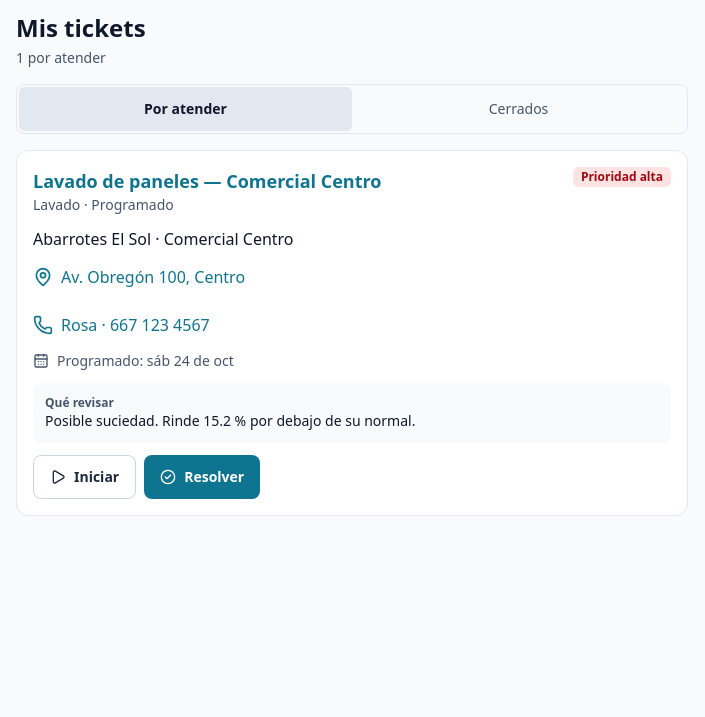
Test: vista del técnico (celular) › iniciar y resolver con notas y "Se realizó limpieza"
Click the button "Iniciar" at (85,477), box [33,455,136,499]
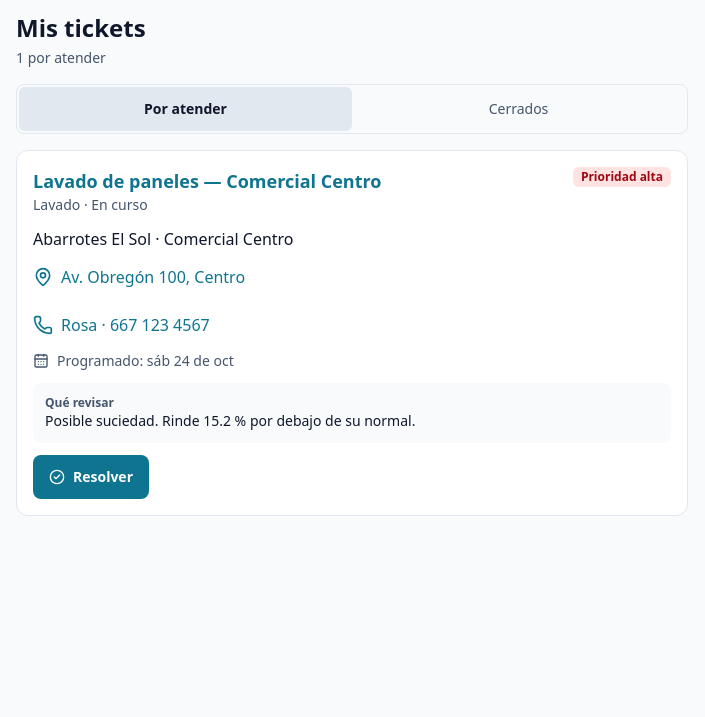
Expected: the text "Lavado · En curso" is shown, [33,195,148,214]
Click the button "Resolver" at (91,477), box [33,455,149,499]
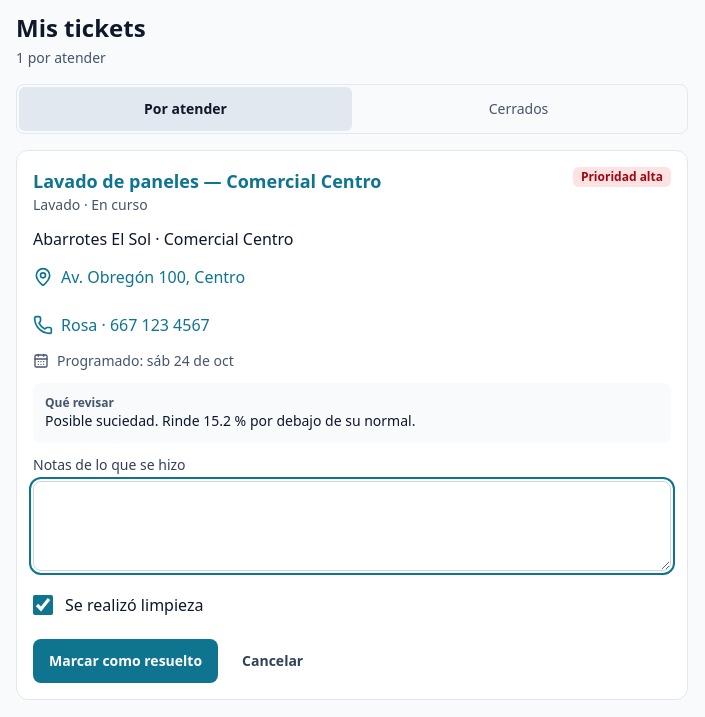
Expected: the checkbox labelled "Se realizó limpieza" is checked, [33,595,53,615]
Type "Lavado con agua desmineralizada" into the text box labelled "Notas de lo que se hizo" at (352,526), box [33,481,671,571]
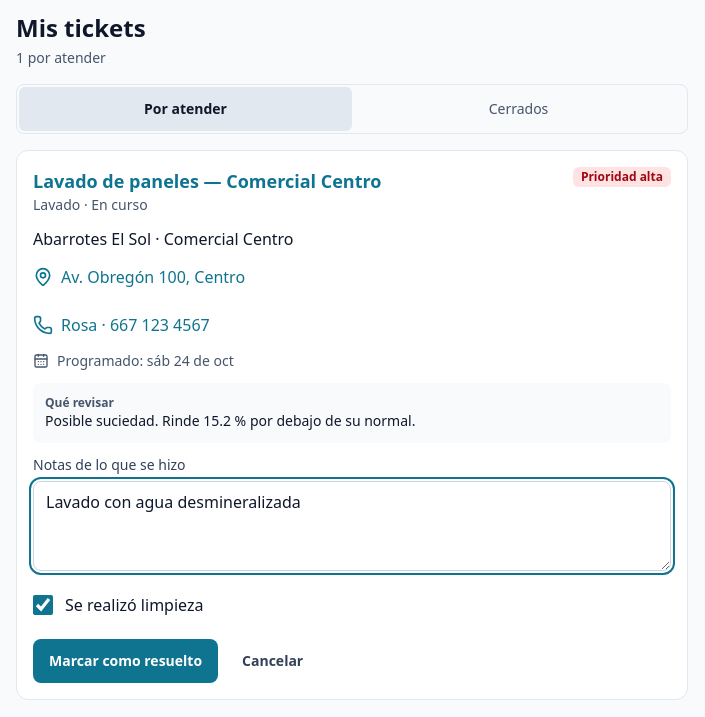
Click the button "Marcar como resuelto" at (126,661), box [33,639,218,683]
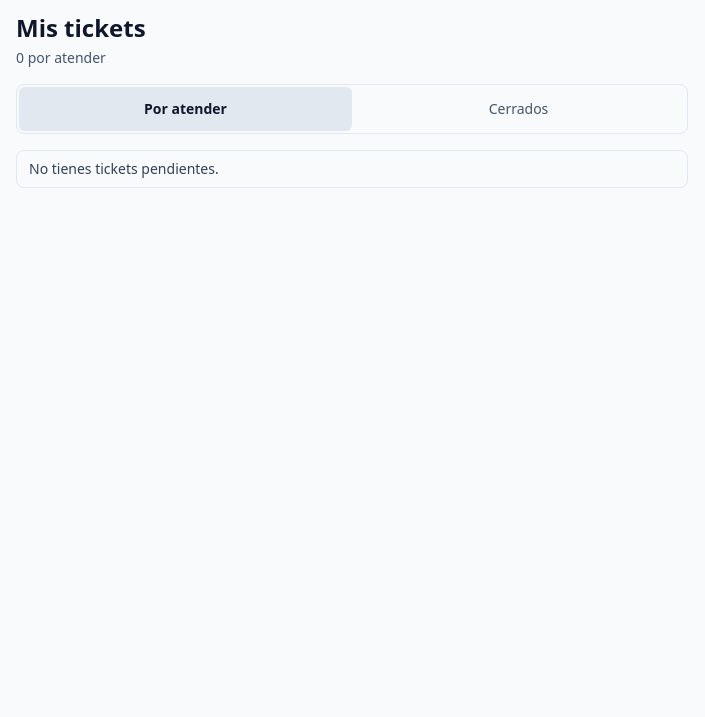
Expected: the text "No tienes tickets pendientes." is shown, [16,150,688,188]
